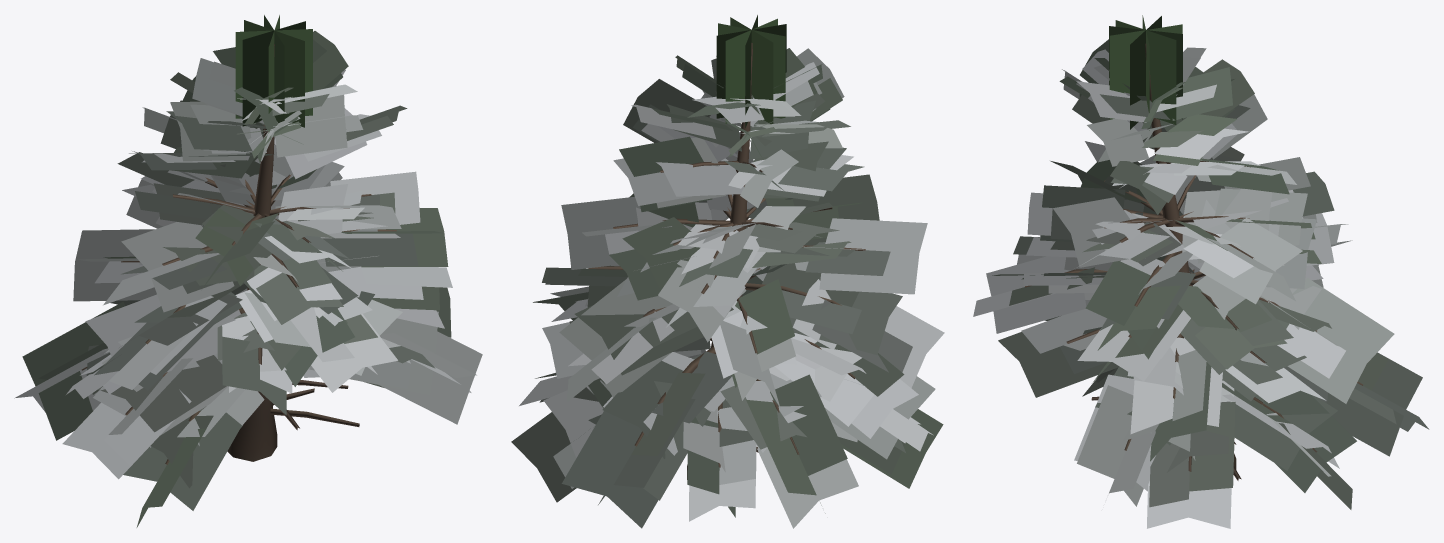
File: conifer.mountain_pine.snow.glb
3 renders of one model, left to right at view 1: azimuth 30°, elevation 25°; view 2: azimuth 150°, elevation 25°; view 3: azimuth 270°, elevation 25°, orthographic. The views are drawn at different scales.
Parts seen in each view (by area): view 1: conifer_mountain_pine_snow; view 2: conifer_mountain_pine_snow; view 3: conifer_mountain_pine_snow.
Part boxes in pixels (box(x1,y1,x2,y2)): conifer_mountain_pine_snow: box(14, 15, 482, 527); conifer_mountain_pine_snow: box(511, 15, 944, 528); conifer_mountain_pine_snow: box(973, 15, 1429, 528).
Size of what is drawn, in the model's own units: 4.78 by 5.21 by 4.86.
